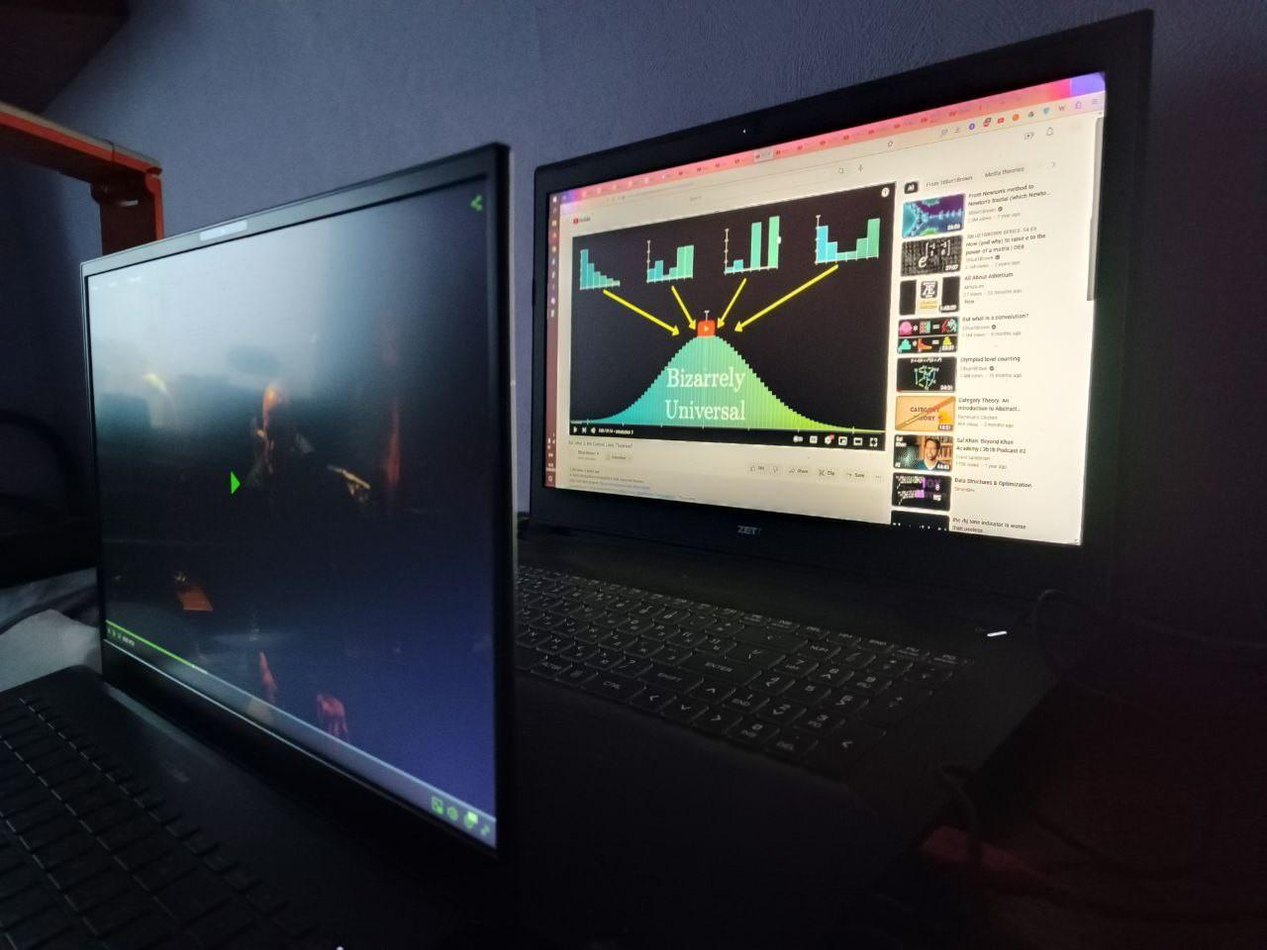monitor: (523, 7, 1160, 595), (76, 130, 526, 862)
